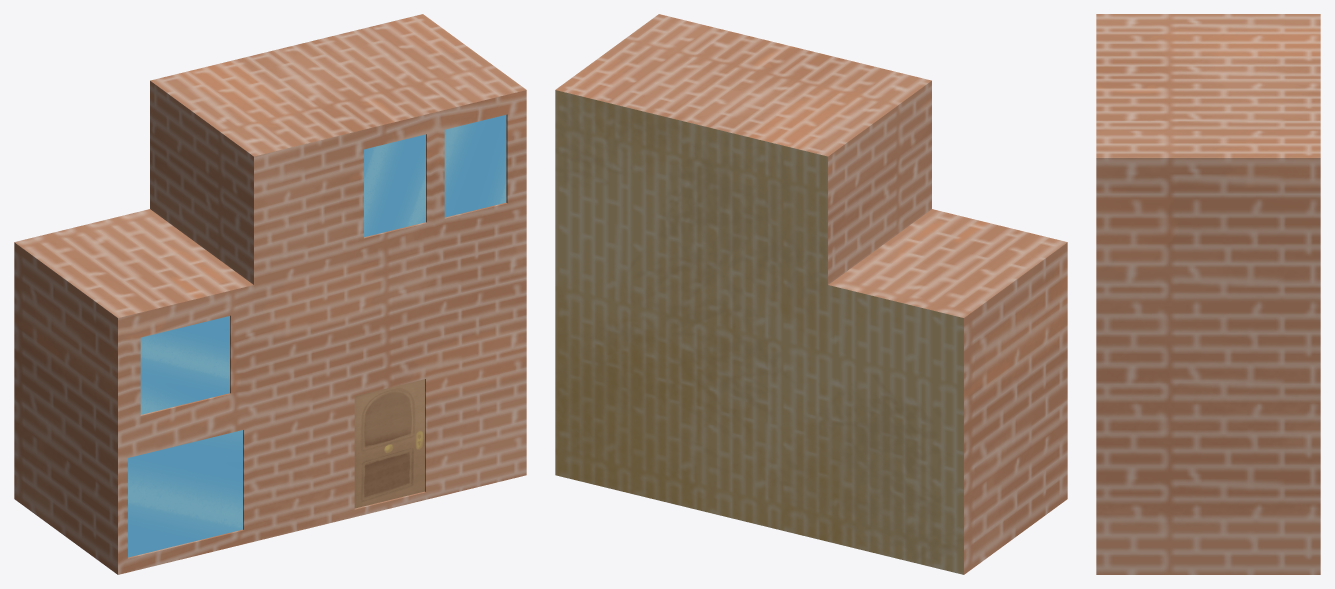
Rendered from SM_cassa_6.fbx.
3 renders of one model, left to right at view 1: azimuth 30°, elevation 25°; view 2: azimuth 150°, elevation 25°; view 3: azimuth 270°, elevation 25°, orthographic. The views are drawn at different scales.
Visible parts, largest first — view 1: Casa_0.002; view 2: Casa_0.002; view 3: Casa_0.002.
Part boxes in pixels (bbox=[...]): Casa_0.002: bbox=[14, 14, 526, 574]; Casa_0.002: bbox=[555, 14, 1067, 574]; Casa_0.002: bbox=[1096, 14, 1320, 574].
Size of the model in its own units: 1187 by 1069 by 522.
